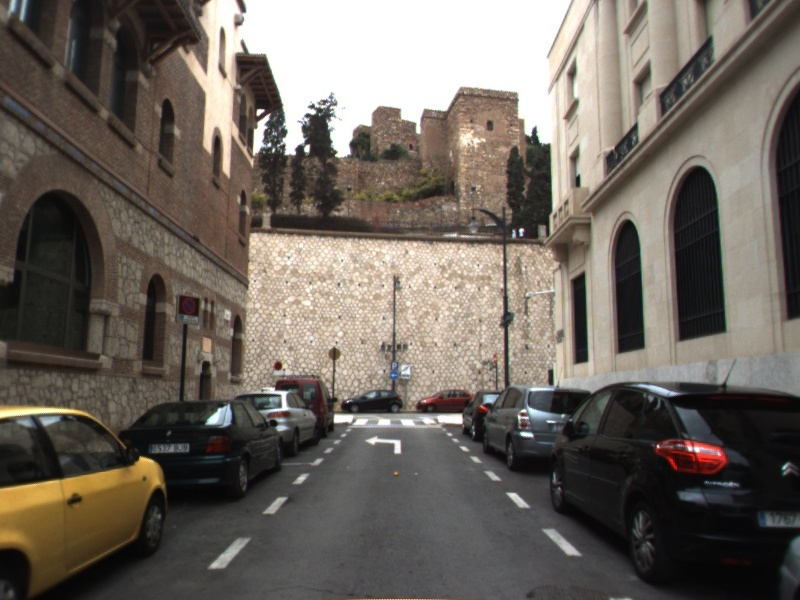LEFT: (363, 434, 403, 456)
